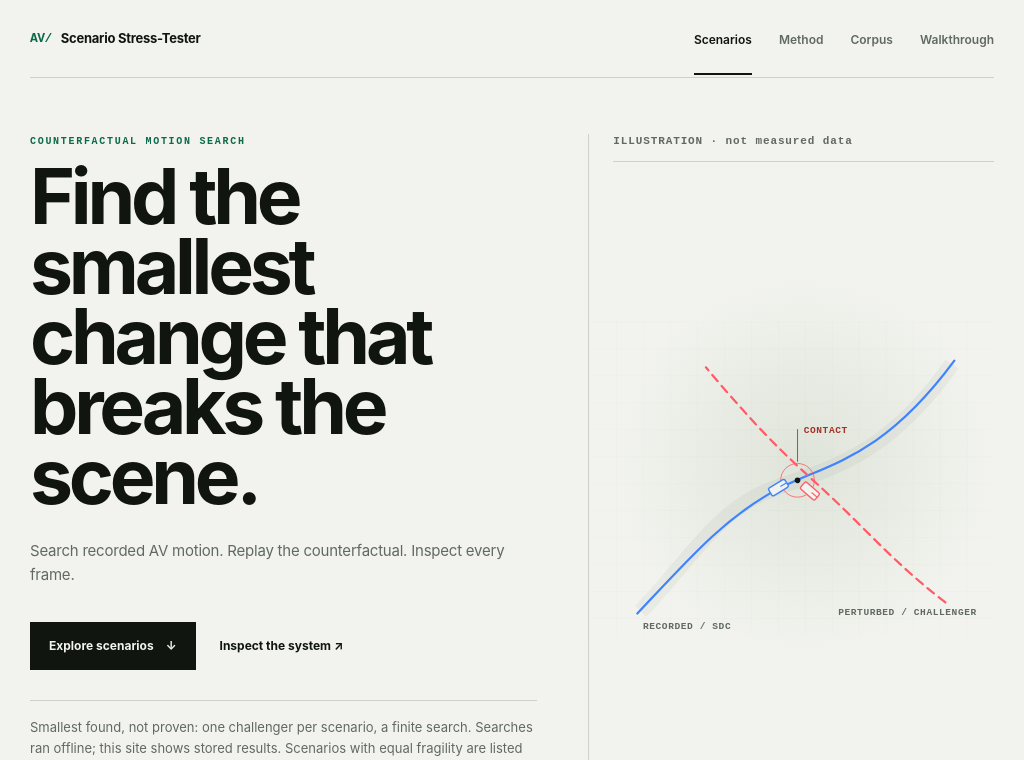
Test: the title follows navigation › changes from Scenarios to Method to Corpus and back, with no stale title in between
This screenshot has width=1024, height=760.
Click the link "Method": (801,39) [779, 32, 824, 47]
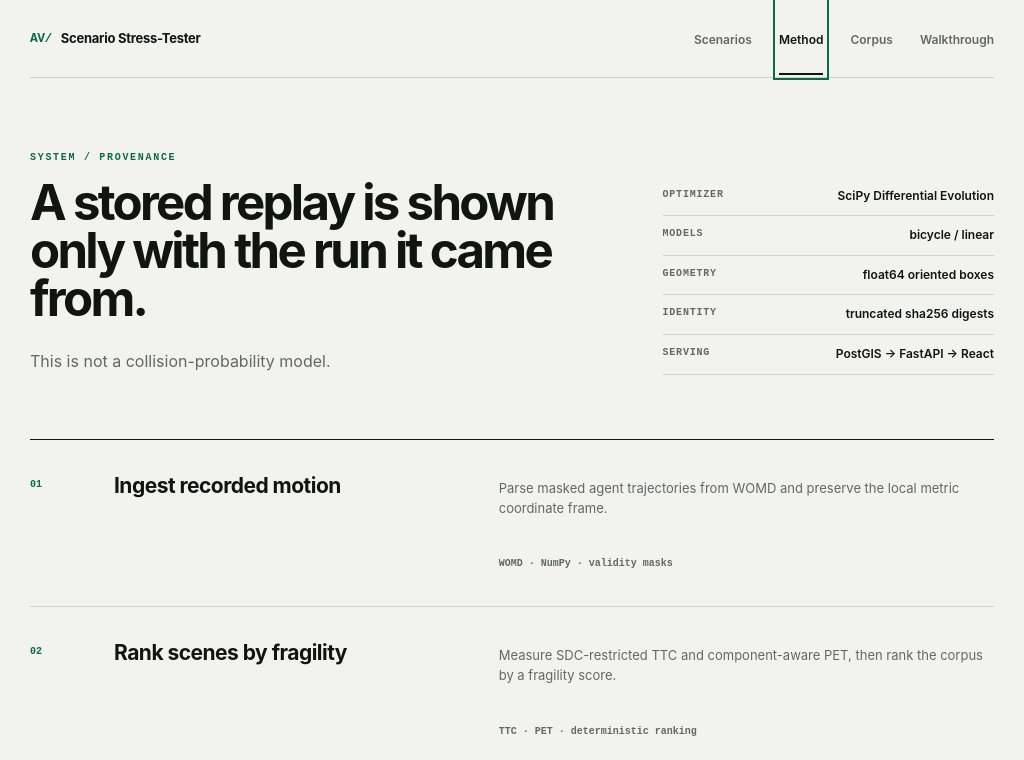
expect the heading "A stored replay is shown only with the run it came from." is shown: met, box [30, 178, 582, 322]
Click the link "Corpus": (872,39) [850, 32, 893, 47]
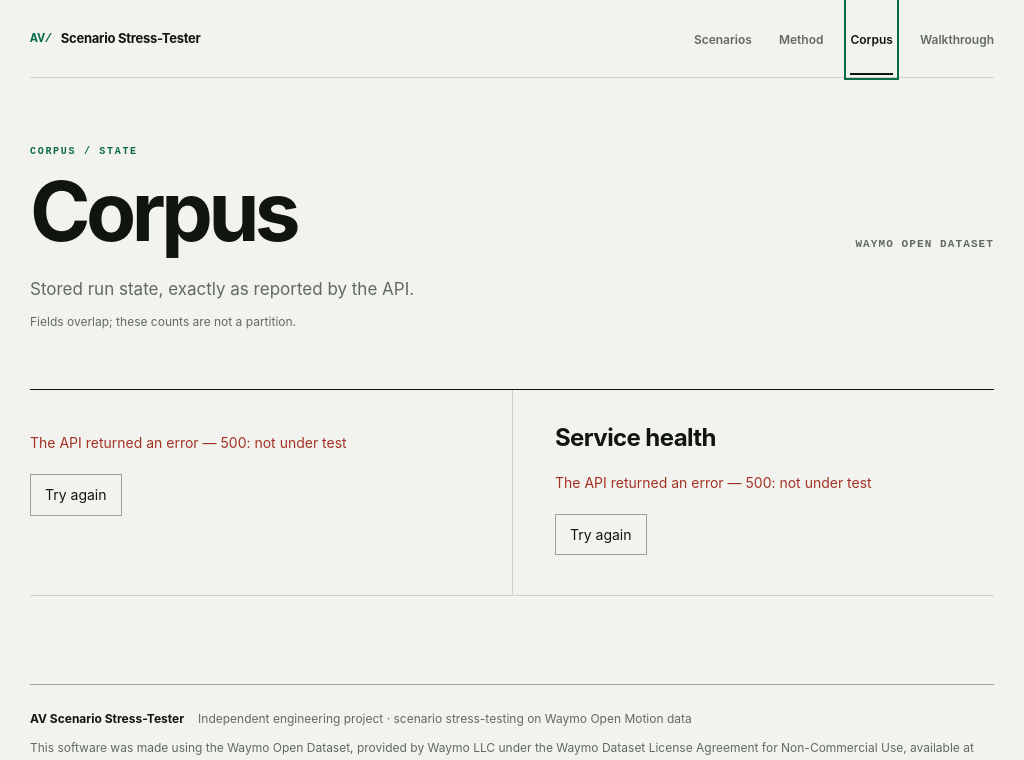
expect the heading "Corpus" is shown: met, box [30, 172, 296, 252]
Click the link "Scenarios": (723,39) [694, 32, 752, 47]
(page scrolled)
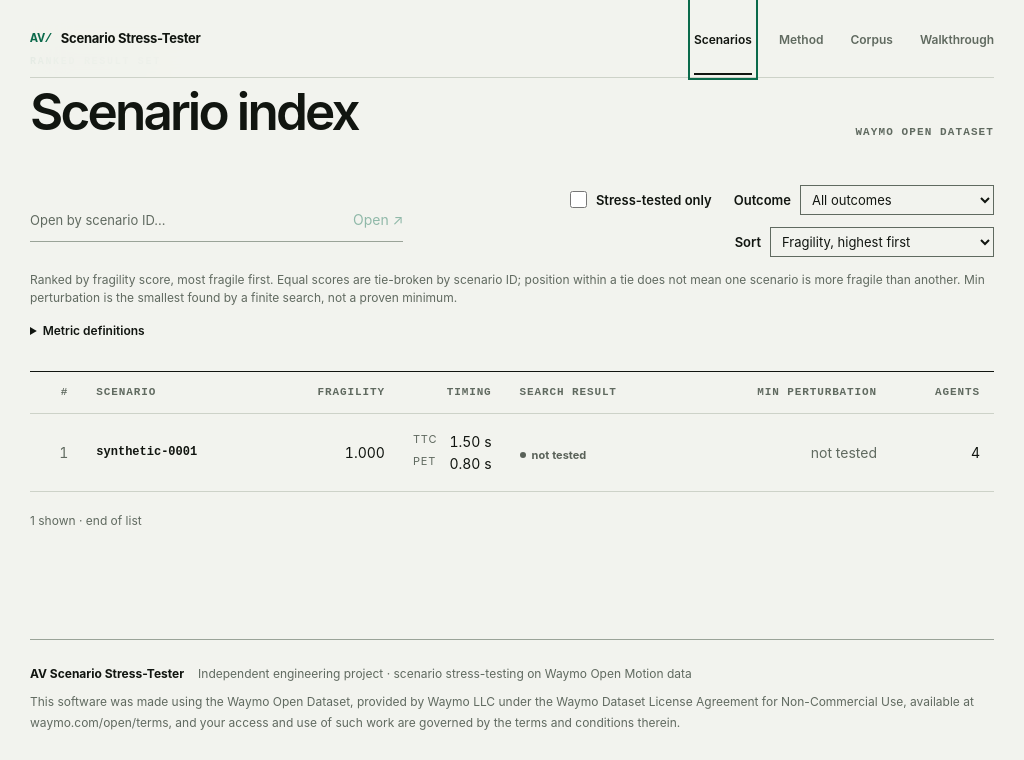
expect the link "synthetic-0001" is shown: met, box [96, 445, 197, 459]
